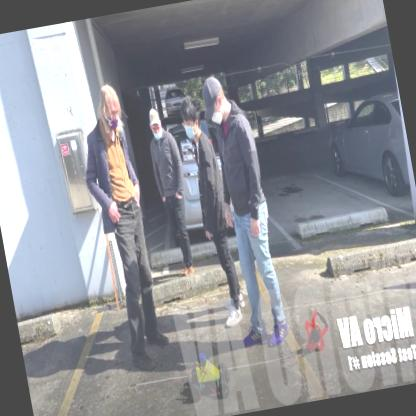mushr_car: (167, 347, 234, 407)
